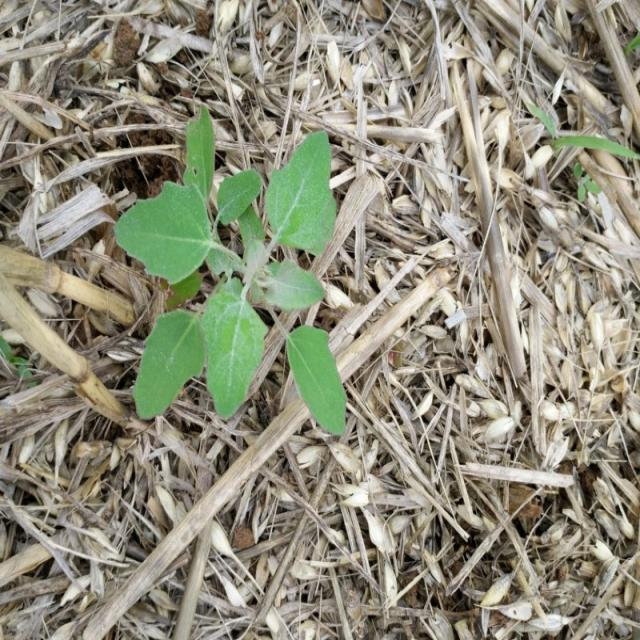ca: (117, 106, 347, 437)
